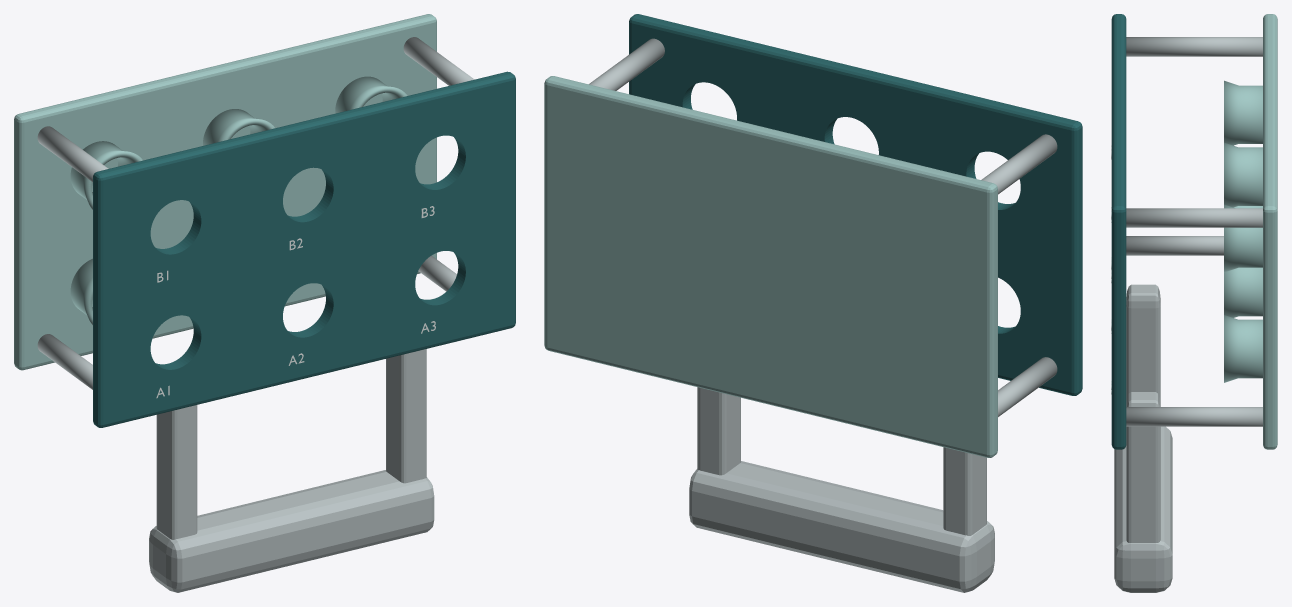
Rendered from tube_rack.glb.
3 views of the same model, side by side, from view 1: azimuth 30°, elevation 25°; view 2: azimuth 150°, elevation 25°; view 3: azimuth 270°, elevation 25° (orthographic). The views are drawn at different scales.
Visible parts, largest first — view 1: Rack perforated plate, Rack base, Rack carry handle, Rack carry mounting, Rack carry mounting.001, Rack standoff.001, Rack standoff.003, Rack lower guide 2_1, Rack lower guide 1_1, Rack lower guide 0_1, Rack standoff, Rack lower guide 0_0 (+1 smaller); view 2: Rack base, Rack perforated plate, Rack carry handle, Rack carry mounting, Rack carry mounting.001, Rack standoff.001, Rack standoff.003, Rack standoff; view 3: Rack perforated plate, Rack base, Rack carry handle, Rack carry mounting.001, Rack carry mounting, Rack standoff.001, Rack standoff.002, Rack standoff.003, Rack lower guide 2_0, Rack lower guide 0_1, Rack lower guide 1_1, Rack standoff (+2 smaller).
Part boxes in pixels (bbox=[...]): Rack perforated plate: bbox=[93, 71, 515, 427]; Rack base: bbox=[14, 14, 436, 370]; Rack carry handle: bbox=[149, 470, 434, 592]; Rack carry mounting: bbox=[156, 405, 197, 539]; Rack carry mounting.001: bbox=[386, 349, 426, 483]; Rack standoff.001: bbox=[37, 126, 108, 181]; Rack standoff.003: bbox=[403, 37, 474, 85]; Rack lower guide 2_1: bbox=[335, 76, 407, 113]; Rack lower guide 1_1: bbox=[203, 109, 275, 145]; Rack lower guide 0_1: bbox=[70, 141, 142, 209]; Rack standoff: bbox=[37, 334, 92, 389]; Rack lower guide 0_0: bbox=[70, 258, 92, 324]; Rack base: bbox=[544, 76, 997, 457]; Rack perforated plate: bbox=[629, 14, 1082, 395]; Rack carry handle: bbox=[689, 461, 994, 592]; Rack carry mounting: bbox=[943, 447, 986, 535]; Rack carry mounting.001: bbox=[697, 387, 740, 475]; Rack standoff.001: bbox=[981, 134, 1057, 194]; Rack standoff.003: bbox=[589, 38, 664, 90]; Rack standoff: bbox=[998, 357, 1057, 416]; Rack perforated plate: bbox=[1111, 14, 1126, 449]; Rack base: bbox=[1263, 14, 1277, 449]; Rack carry handle: bbox=[1114, 426, 1172, 592]; Rack carry mounting.001: bbox=[1126, 392, 1160, 542]; Rack carry mounting: bbox=[1126, 284, 1160, 404]; Rack standoff.001: bbox=[1126, 37, 1262, 56]; Rack standoff.002: bbox=[1126, 407, 1262, 426]; Rack standoff.003: bbox=[1126, 208, 1262, 227]; Rack lower guide 2_0: bbox=[1224, 315, 1262, 382]; Rack lower guide 0_1: bbox=[1224, 80, 1262, 145]; Rack lower guide 1_1: bbox=[1224, 142, 1262, 207]; Rack standoff: bbox=[1126, 236, 1223, 255].
Size of the model in its own units: 0.19 by 0.192 by 0.0681.
